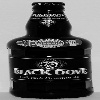beer: (7, 2, 95, 100)
